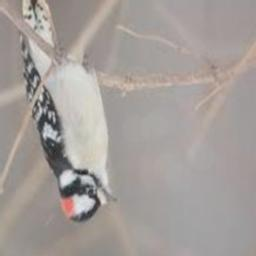Woodpecker: (19, 0, 116, 222)
